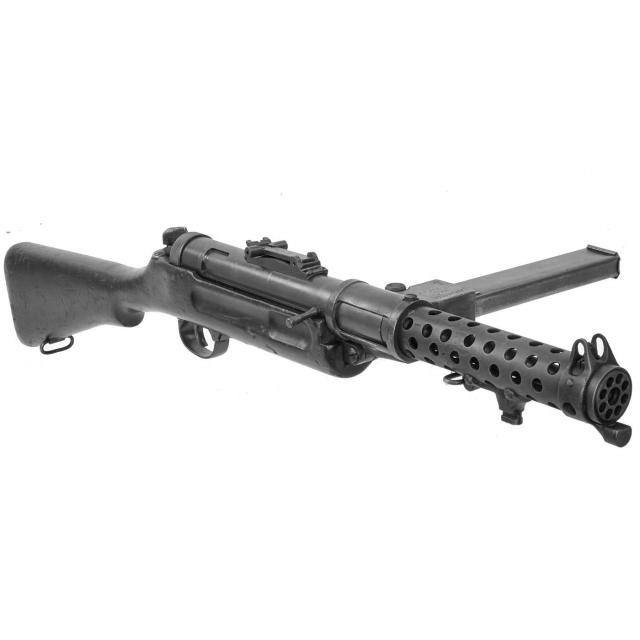Sub-machine-gun: (8, 145, 640, 490)
